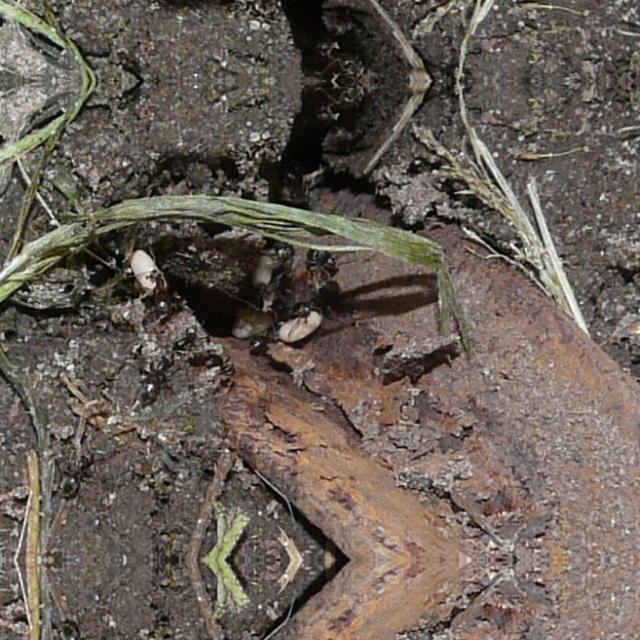Lasius: (52, 439, 106, 506), (137, 264, 187, 322), (136, 359, 190, 411), (50, 610, 106, 640)
